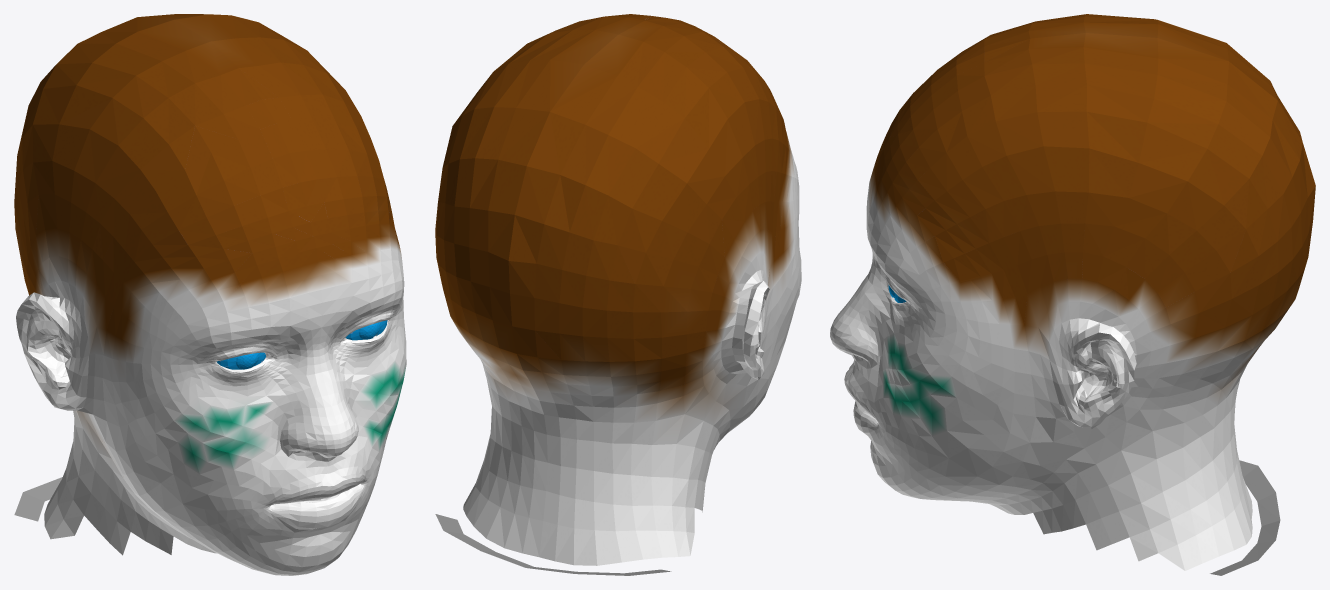
The model's file is head.dae.
3 views of the same model, side by side, from view 1: azimuth 30°, elevation 25°; view 2: azimuth 150°, elevation 25°; view 3: azimuth 270°, elevation 25° (orthographic). The views are drawn at different scales.
Visible parts, largest first — view 1: node; view 2: node; view 3: node.
Part boxes in pixels (x1,y1,x2,y2): node: [14, 14, 406, 575]; node: [435, 14, 801, 575]; node: [830, 14, 1315, 575].
Bounding box in the file's own units: 0.167 × 0.2333 × 0.2082.
1 material, 1 textured.
